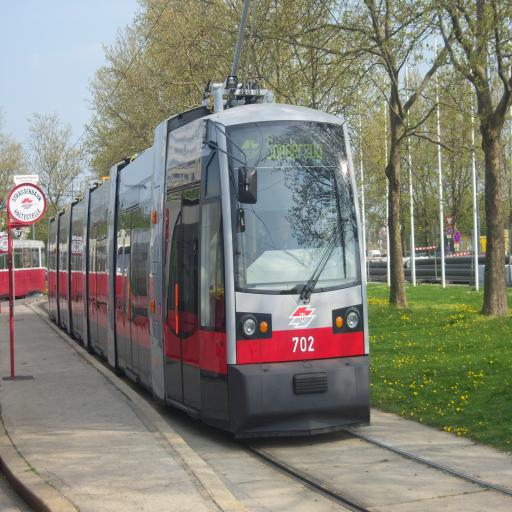ULF: (46, 92, 374, 431)
